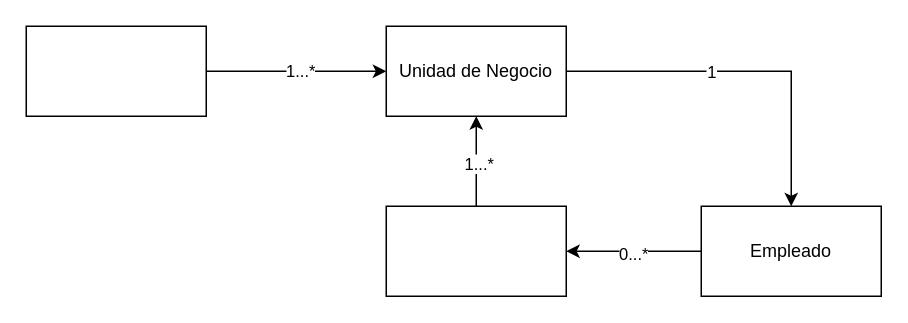
This 908x323 diagram has some shape labels left out. The box of each missing label's shape, as (x1, y1, x2, y2) in pixels:
Empresa: (25, 25, 206, 116)
Proyecto: (385, 205, 566, 296)
